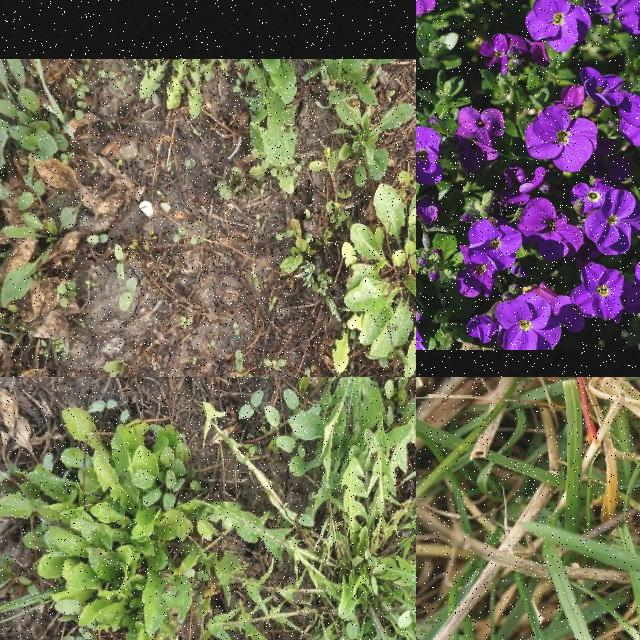flower: (455, 377, 640, 445)
